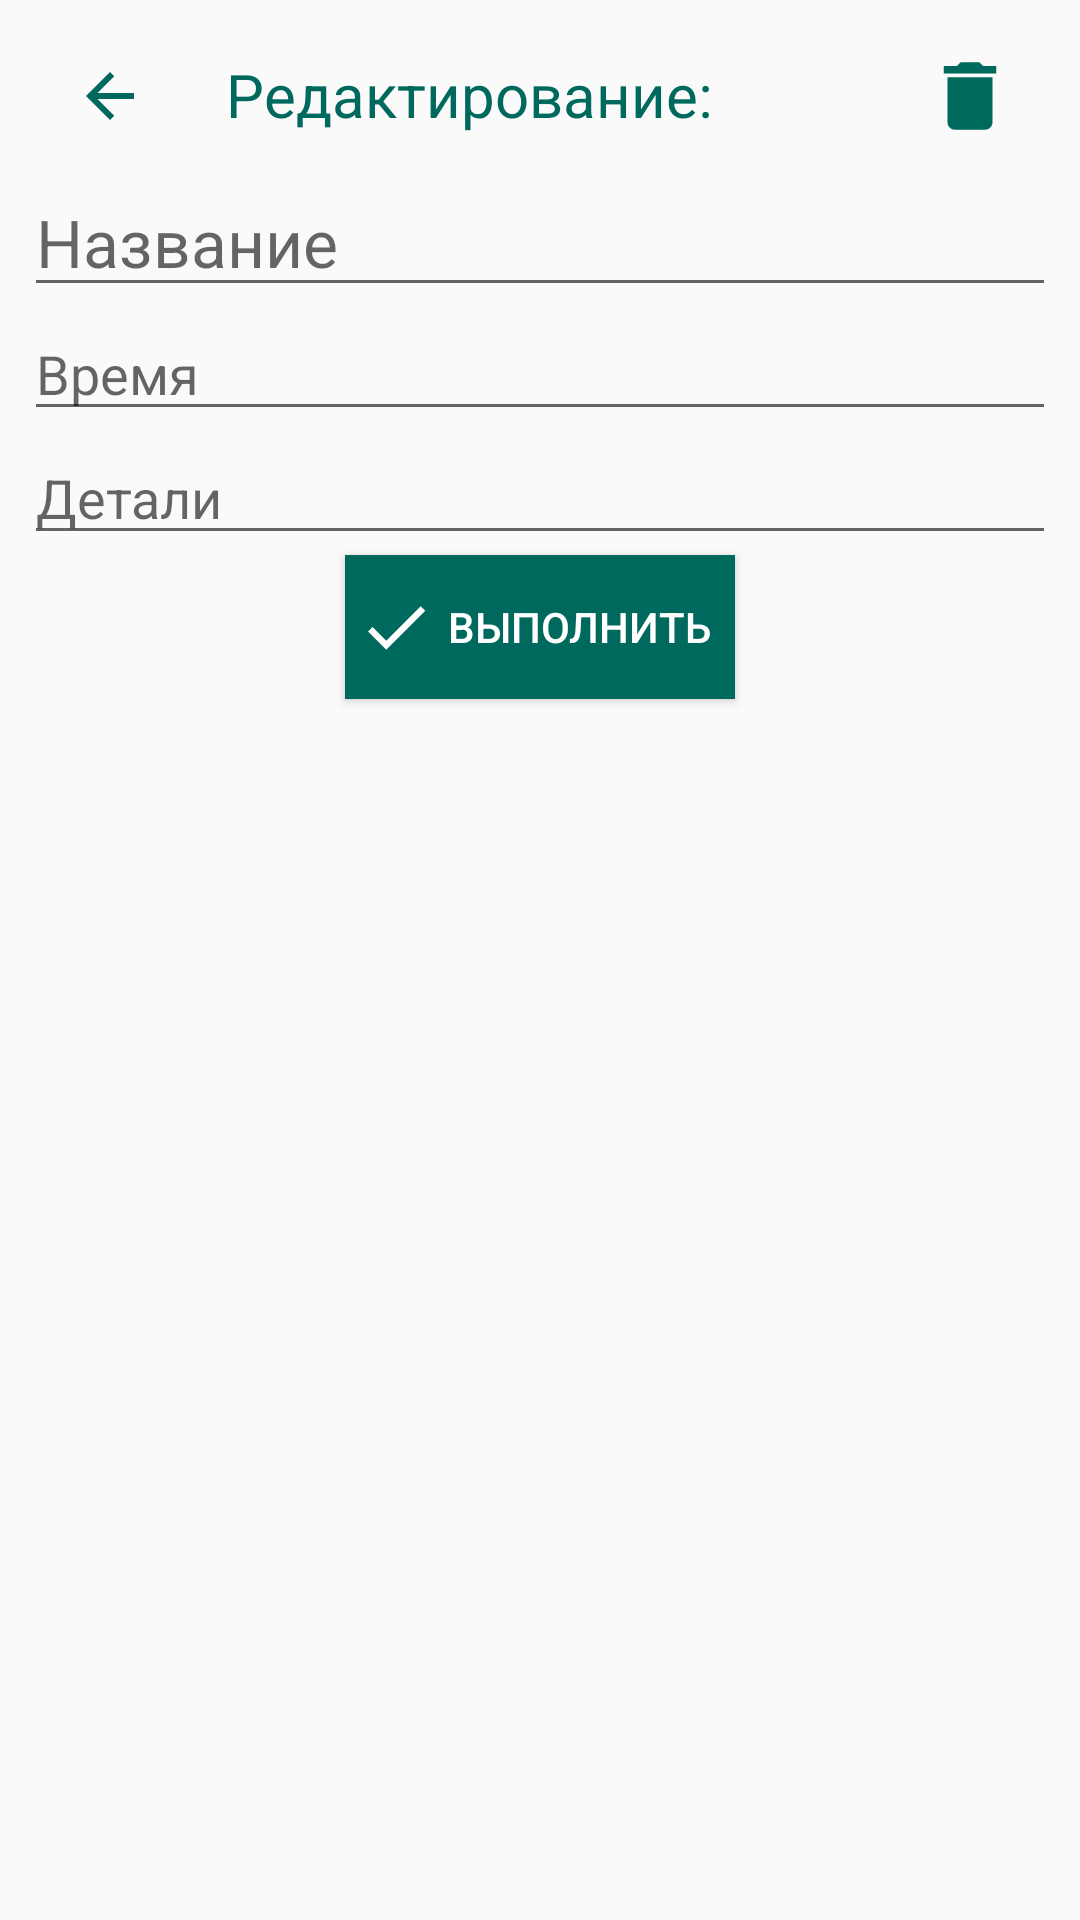

Icon click points for this 1080*1920 phone screenshot, format [x,y]:
arrow back: [110,96]
delete: [970,96]
